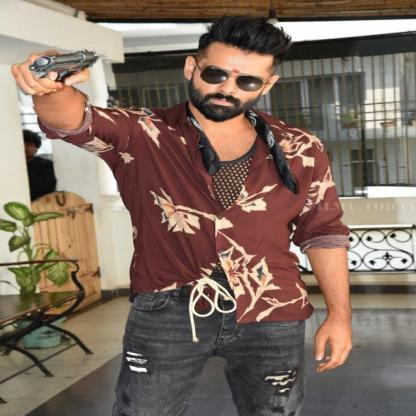handgun: (18, 48, 109, 106)
